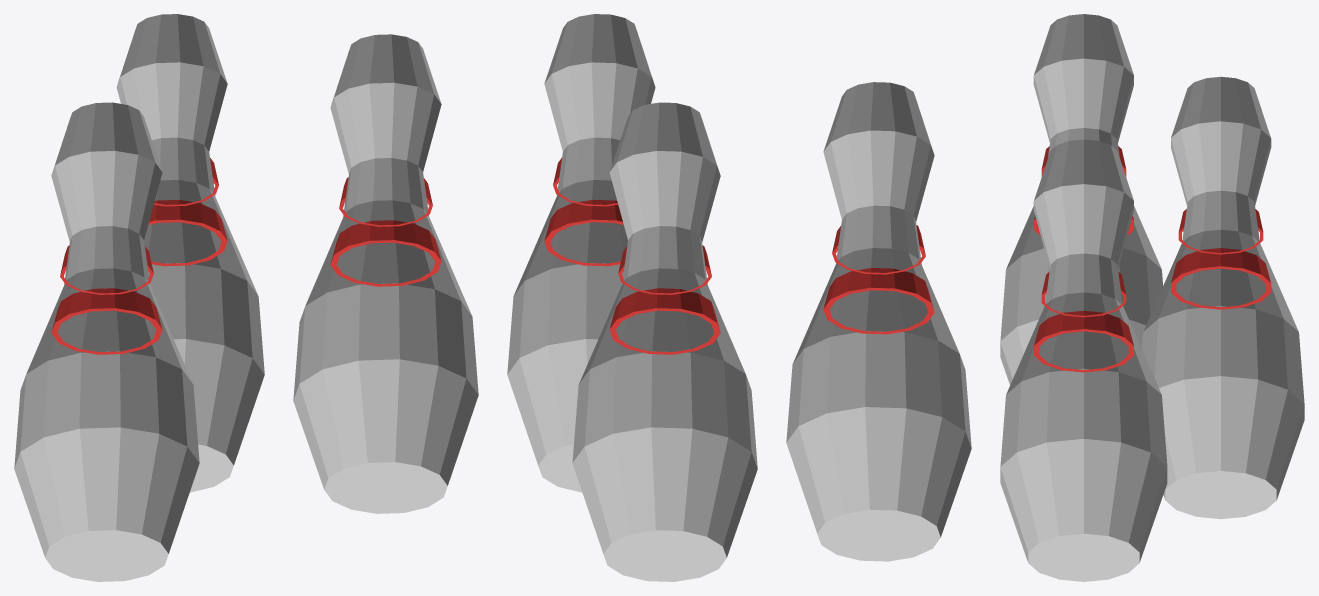
File: kagla.glb
The picture shows the model from 3 angles, left to right: view 1: azimuth 30°, elevation 25°; view 2: azimuth 150°, elevation 25°; view 3: azimuth 270°, elevation 25°; orthographic projection. The views are drawn at different scales.
Parts seen in each view (by area): view 1: kagla; view 2: kagla; view 3: kagla.
Boxes of the visible parts, x1,y1,x2,y2 form: kagla: (14,14,478,581); kagla: (507,14,971,581); kagla: (1000,14,1304,581).
Bounding box in the file's own units: 0.41 × 0.4 × 0.2662.
